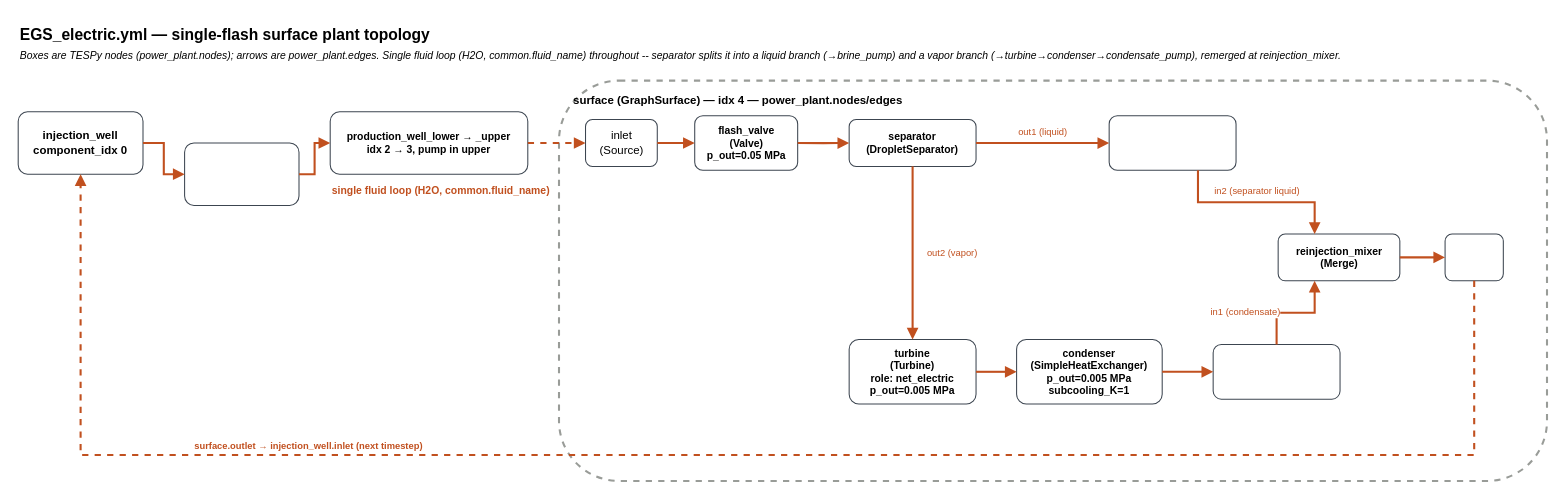
The diagram is 1566 pixels wide and 499 high, and some of its shapes have lost their labels. The shapes that lost their labels are listed below. From the top down, each one's box as (x1, y1, x2, y2) in pixels, then its label:
(1108, 115, 1236, 170): brine_pump (Compressor) role: net_electric
(184, 142, 299, 205): reservoir idx 1
(1444, 233, 1503, 281): outlet (Sink)
(1212, 344, 1340, 399): condensate_pump (Compressor) role: net_electric
